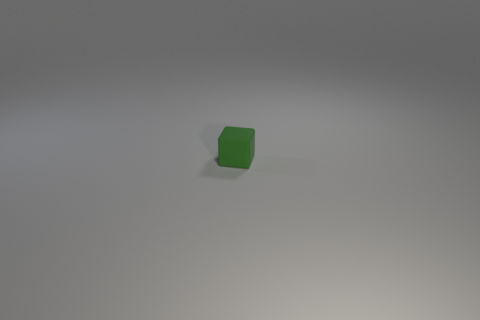cube: (213, 122, 260, 174)
